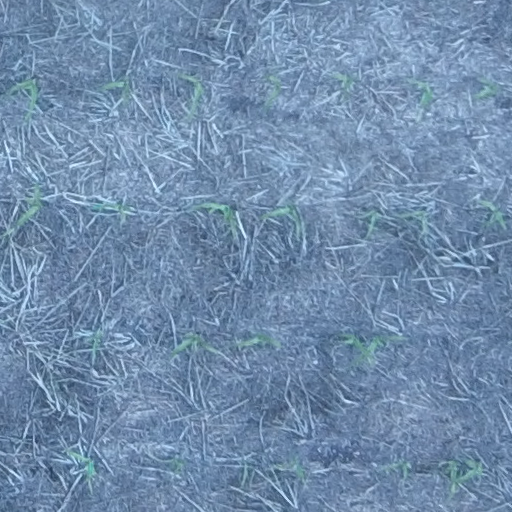planta: (340, 331, 405, 366), (191, 199, 239, 239), (442, 456, 485, 500), (175, 71, 206, 121), (8, 76, 41, 122), (257, 202, 303, 235), (169, 330, 219, 359), (63, 446, 98, 485), (99, 75, 133, 105), (477, 197, 508, 229), (234, 331, 283, 350), (273, 456, 307, 481), (91, 201, 133, 221), (398, 208, 429, 234), (410, 78, 435, 109), (262, 72, 283, 108), (472, 76, 499, 101), (330, 71, 355, 94), (362, 207, 382, 235), (87, 328, 104, 355), (388, 459, 412, 478), (168, 457, 186, 475)
